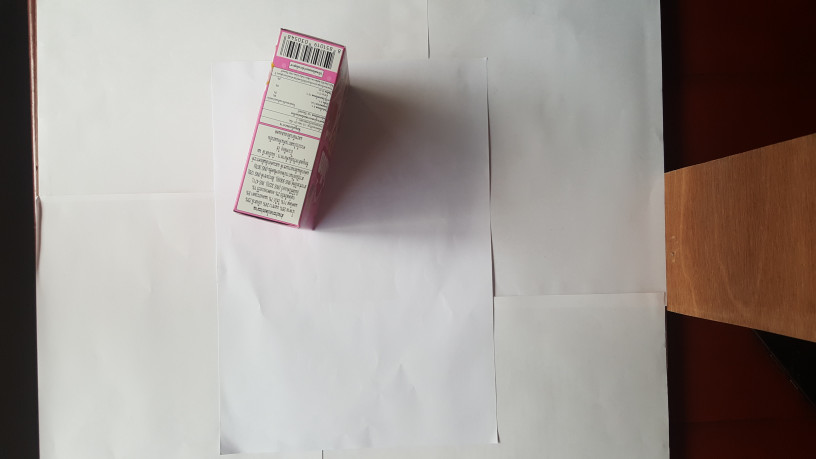collon-strawberry: (231, 27, 352, 234)
